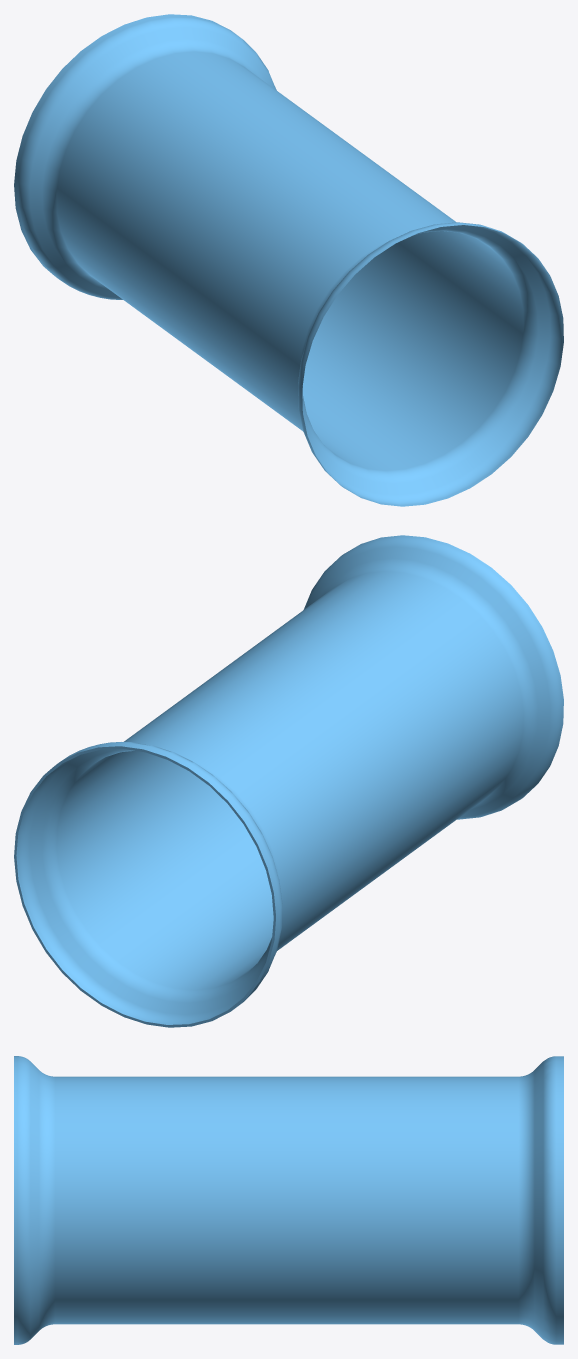
The model's file is ur3e_scaled_16.obj.
3 views of the same model, one above another, from view 1: azimuth 30°, elevation 25°; view 2: azimuth 150°, elevation 25°; view 3: azimuth 270°, elevation 25° (orthographic). The views are drawn at different scales.
Bounding box in the file's own units: 0.063 × 0.063 × 0.1199.
